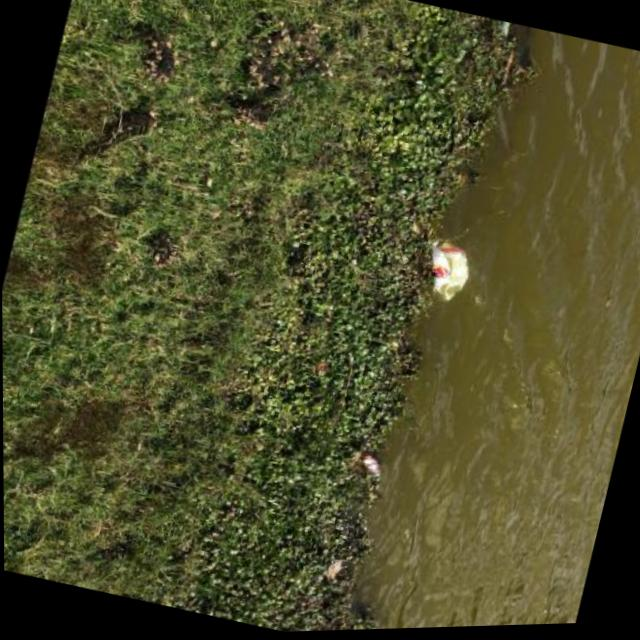plastic: (417, 237, 474, 306)
